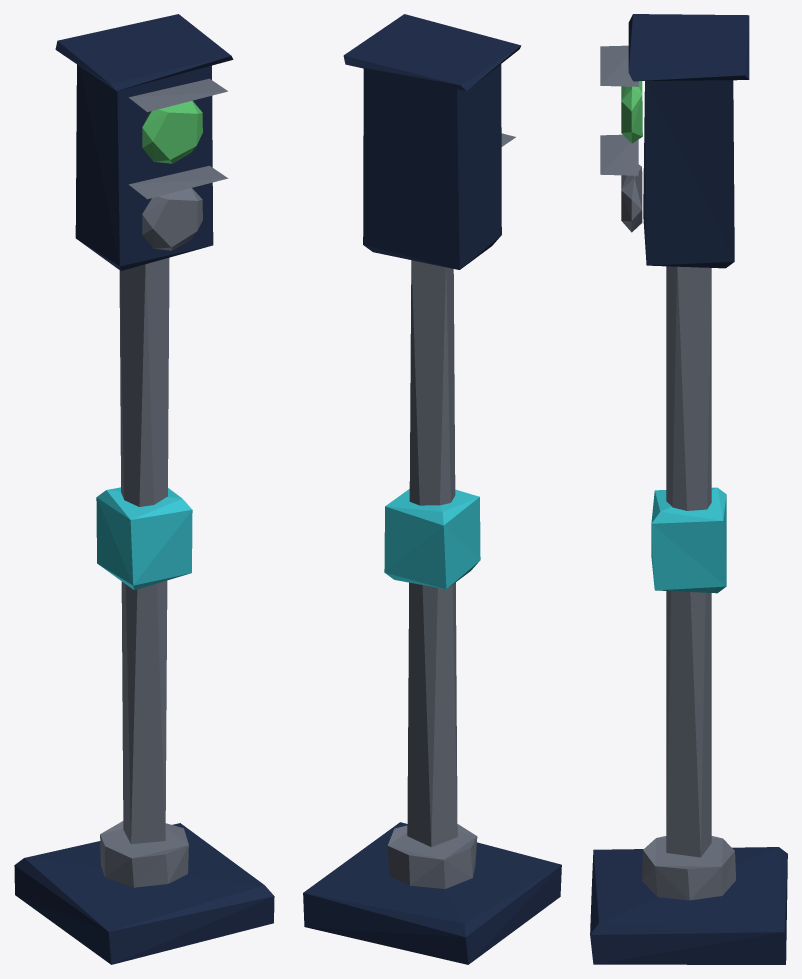
The model's file is signal_lamp_lod1.obj.
3 renders of one model, left to right at view 1: azimuth 30°, elevation 25°; view 2: azimuth 150°, elevation 25°; view 3: azimuth 270°, elevation 25°, orthographic. The views are drawn at different scales.
Visible parts, largest first — view 1: signal_lamp_lod1; view 2: signal_lamp_lod1; view 3: signal_lamp_lod1.
Part boxes in pixels (<box>): signal_lamp_lod1: <box>14,14,274,964</box>; signal_lamp_lod1: <box>303,14,561,964</box>; signal_lamp_lod1: <box>590,14,787,964</box>.
Size of the model in its own units: 0.4769 by 2.38 by 0.4839.
